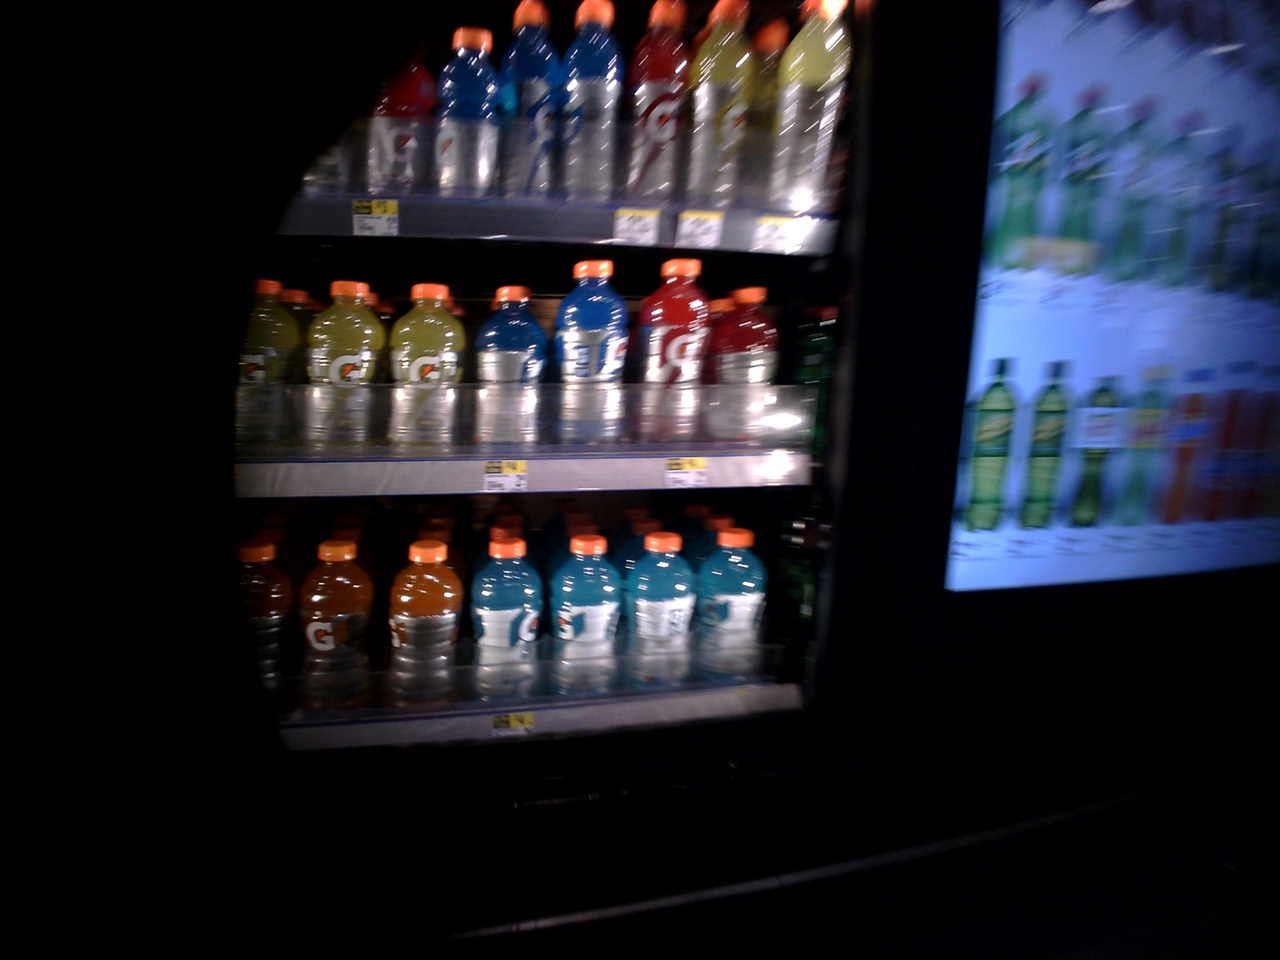shelf: (207, 0, 849, 246), (203, 500, 814, 735), (196, 259, 811, 489)
